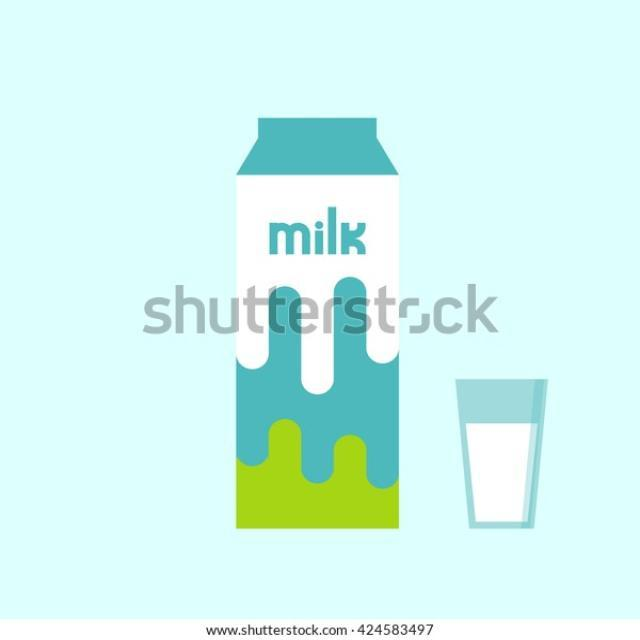Carton: (210, 104, 430, 568)
